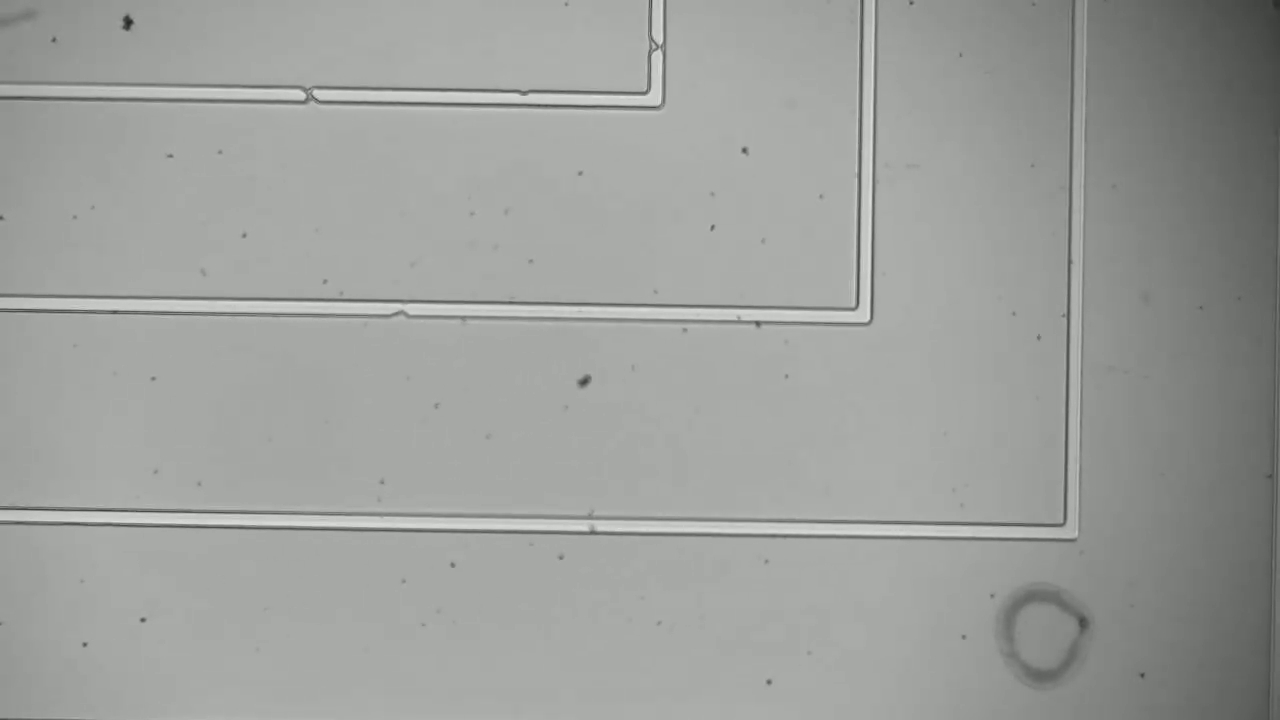edge_bite: (382, 290, 417, 326), (643, 30, 675, 60)
open: (297, 76, 327, 112)
